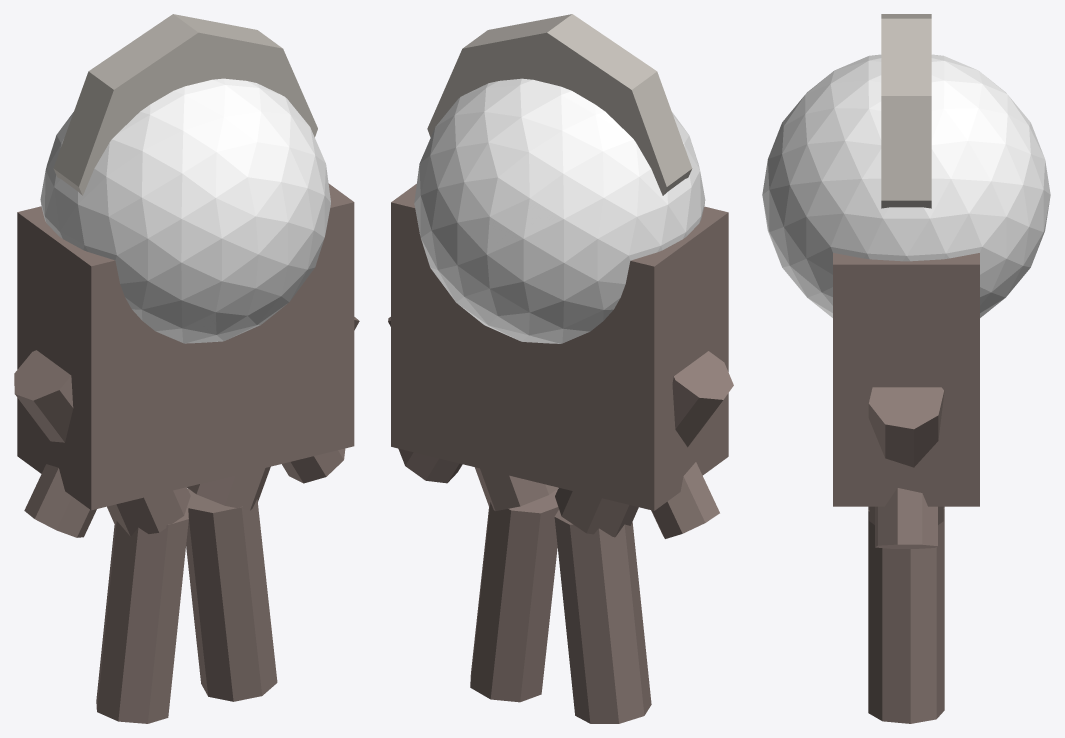
The picture shows the model from 3 angles, left to right: view 1: azimuth 30°, elevation 25°; view 2: azimuth 150°, elevation 25°; view 3: azimuth 270°, elevation 25°; orthographic projection.
Parts seen in each view (by area): view 1: world; view 2: world; view 3: world.
Boxes of the visible parts, x1,y1,x2,y2 form: world: (14,14,359,723); world: (388,14,733,723); world: (762,14,1050,723).
Size of the model in its own units: 0.8132 by 1.57 by 0.612.
